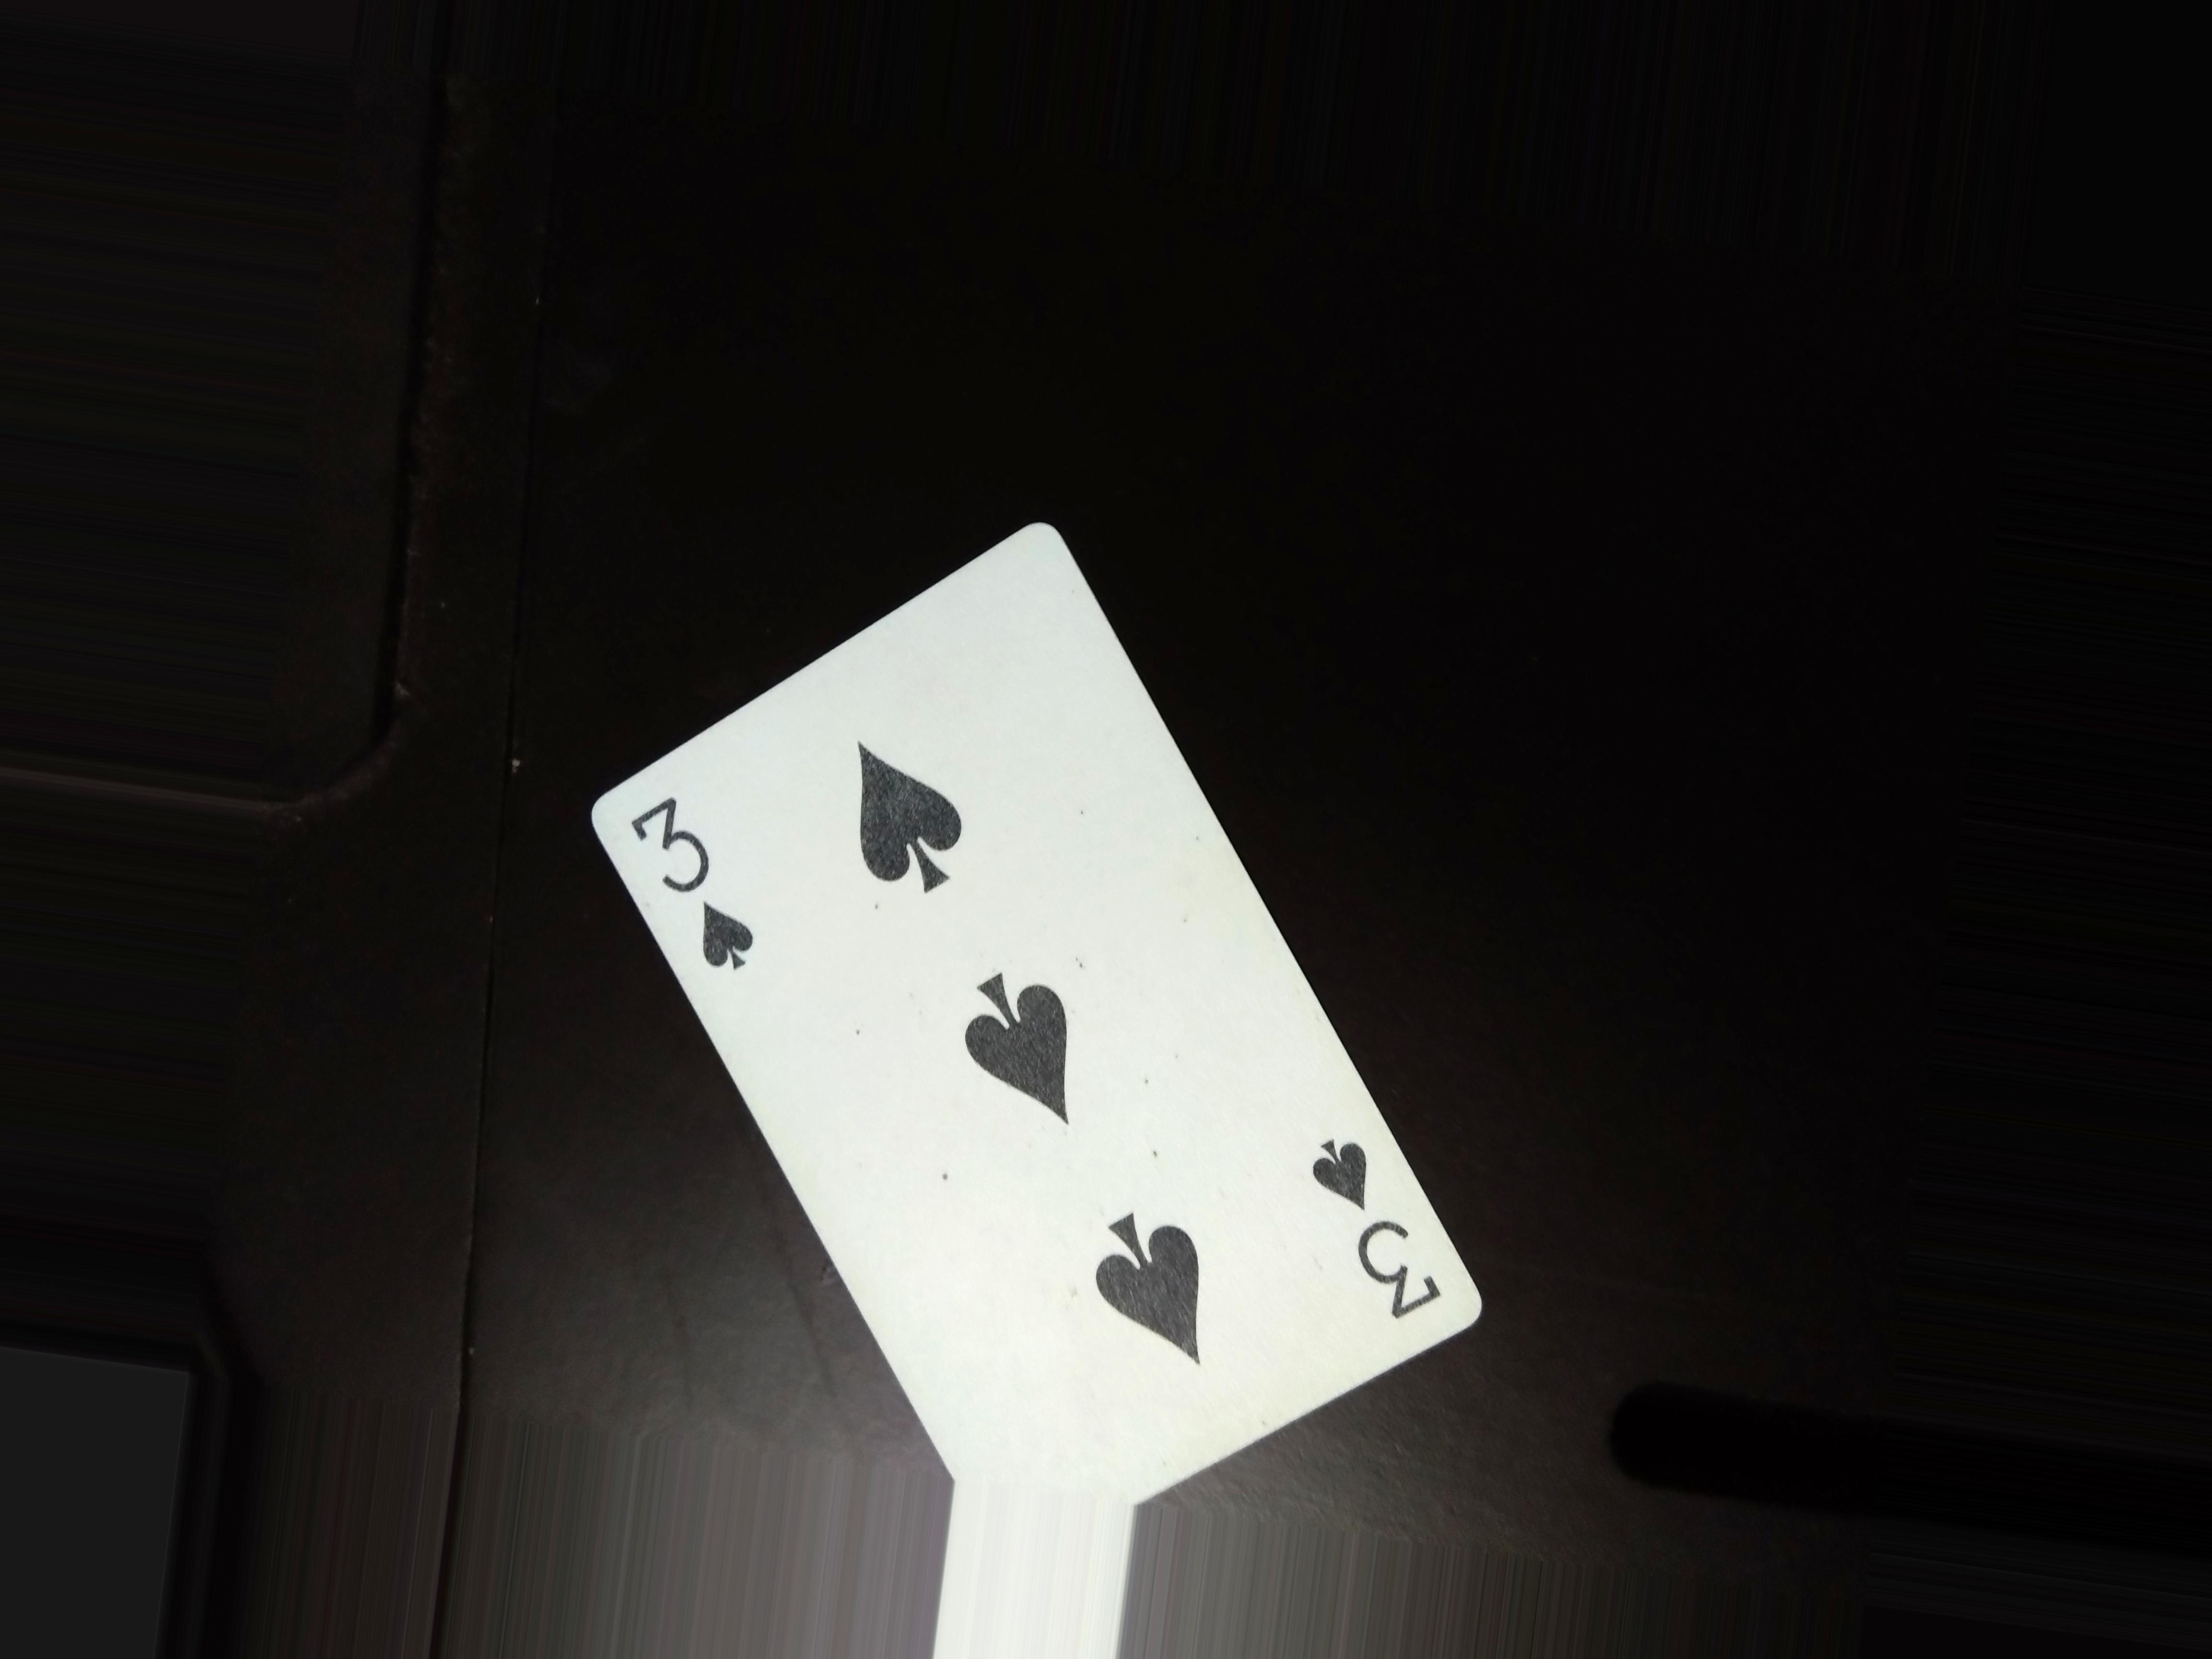3S: (620, 788, 787, 979)
